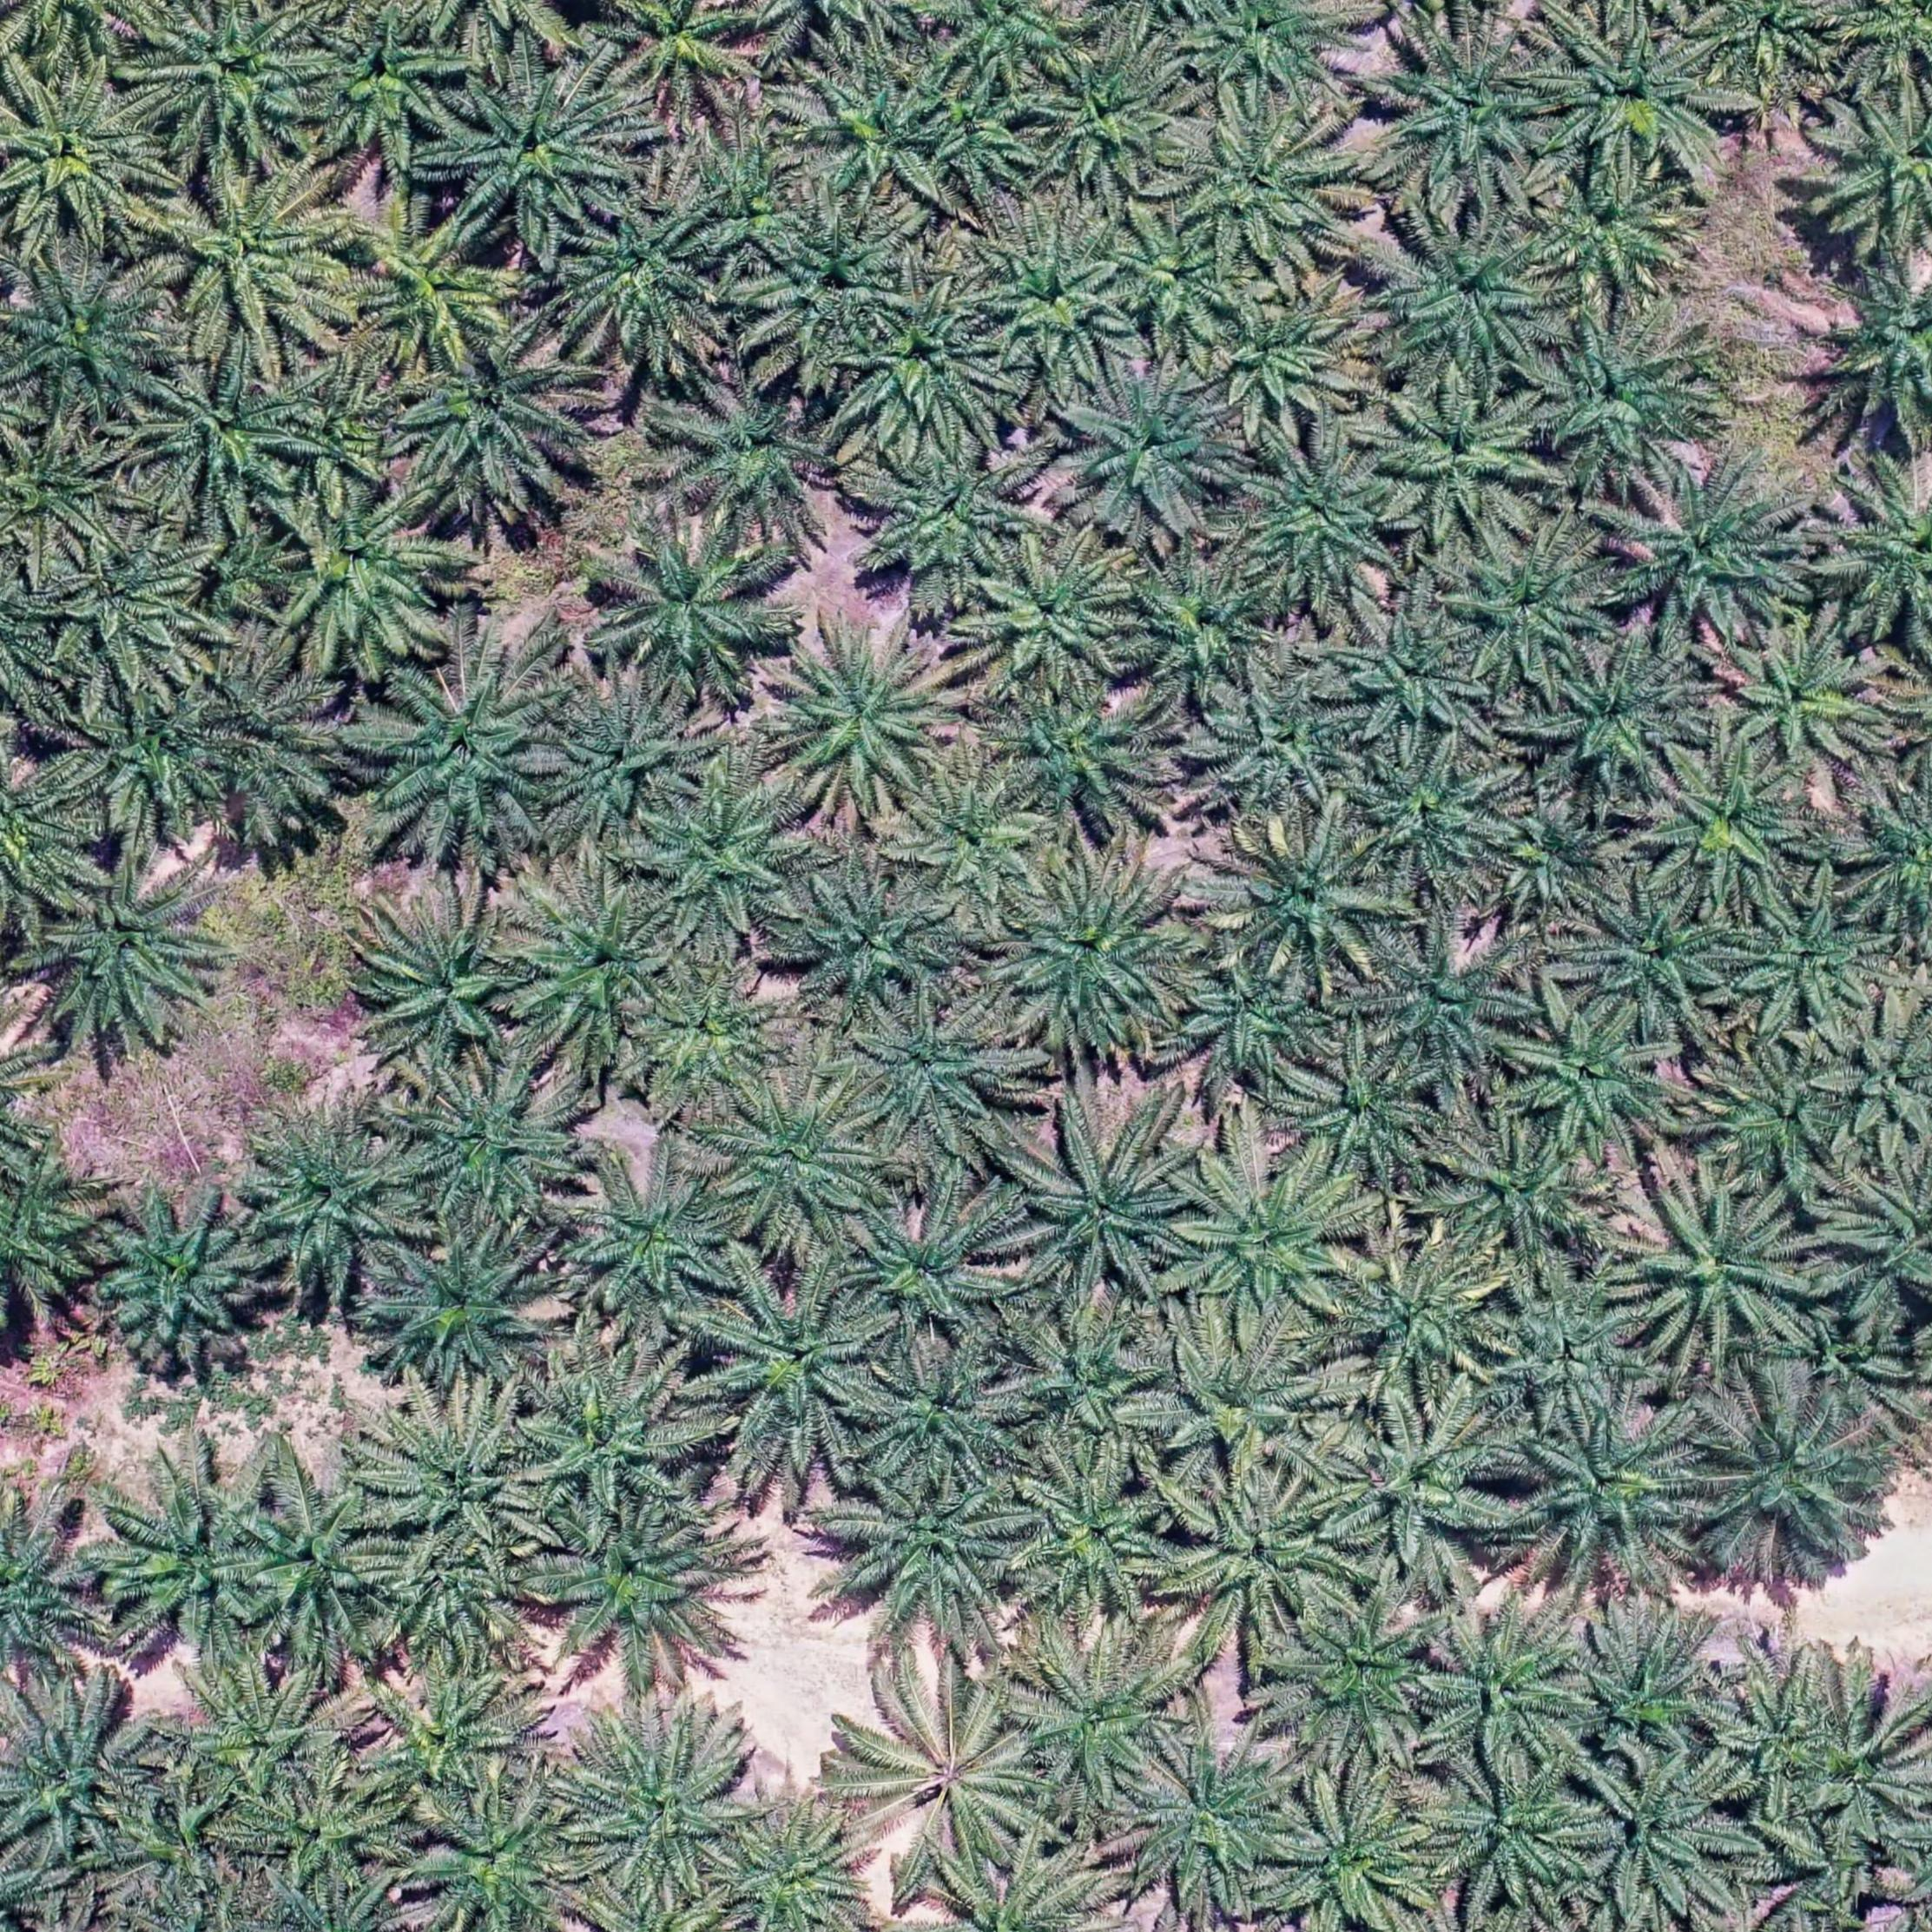palmtree: (356, 653, 566, 860), (840, 1683, 1051, 1881), (991, 856, 1196, 1053), (1686, 1385, 1893, 1578), (1608, 460, 1817, 646), (1621, 1178, 1824, 1368), (147, 161, 350, 350), (395, 322, 598, 511), (260, 476, 458, 669), (1511, 1401, 1713, 1589), (770, 625, 966, 814), (1322, 1399, 1518, 1587), (534, 1504, 738, 1684), (568, 1706, 757, 1897), (30, 858, 219, 1049), (439, 60, 635, 244), (1005, 1109, 1196, 1297), (591, 518, 784, 702), (1168, 1474, 1362, 1656), (1532, 12, 1736, 186), (1373, 211, 1568, 391), (835, 1470, 1031, 1649), (709, 1276, 899, 1460), (1173, 101, 1364, 280), (99, 1479, 285, 1661), (1175, 1157, 1364, 1336), (1060, 359, 1247, 538), (1376, 25, 1564, 202), (1529, 311, 1713, 488), (665, 368, 853, 538), (1120, 1732, 1302, 1905), (1566, 1750, 1748, 1923), (0, 60, 170, 246), (1375, 377, 1557, 548), (161, 1656, 357, 1815), (241, 1118, 425, 1286), (140, 2, 331, 163), (557, 196, 736, 368), (840, 276, 1019, 448), (1714, 623, 1898, 789), (375, 1223, 561, 1387), (405, 1062, 591, 1226), (1150, 1325, 1341, 1484), (92, 1192, 272, 1361), (1014, 1633, 1191, 1803), (136, 354, 313, 524), (1277, 1599, 1456, 1767), (1419, 1606, 1598, 1775), (1642, 748, 1821, 916), (513, 881, 683, 1056), (1005, 1453, 1182, 1621), (1215, 814, 1396, 978), (1233, 437, 1407, 607), (1530, 644, 1711, 807), (524, 1364, 708, 1523), (987, 678, 1173, 835), (1445, 529, 1622, 694), (0, 1691, 163, 1870), (1421, 1752, 1601, 1913), (347, 207, 518, 375), (1509, 998, 1684, 1162), (44, 518, 219, 683), (564, 1162, 743, 1323), (1566, 881, 1741, 1044), (1488, 1272, 1665, 1433), (198, 649, 352, 833), (364, 901, 536, 1065), (7, 253, 179, 418), (718, 1079, 892, 1242), (750, 203, 924, 366), (359, 1660, 541, 1813), (977, 221, 1141, 391), (644, 777, 816, 939), (970, 540, 1146, 697), (793, 57, 966, 216), (541, 686, 715, 846), (787, 870, 970, 1021), (1369, 918, 1539, 1079), (865, 441, 1042, 594), (1005, 1309, 1175, 1468), (370, 1405, 543, 1559), (62, 683, 235, 837), (1194, 674, 1369, 826), (1435, 1116, 1612, 1267), (239, 1491, 400, 1656), (1330, 1240, 1506, 1391), (1269, 1785, 1447, 1932), (1697, 1040, 1865, 1196), (856, 996, 1026, 1148), (849, 1196, 1021, 1346), (1028, 41, 1192, 196), (299, 11, 465, 165), (1350, 745, 1520, 895), (1116, 552, 1284, 702), (412, 1792, 593, 1932), (1727, 890, 1893, 1040), (1560, 1617, 1729, 1766), (1286, 1039, 1451, 1189), (1530, 163, 1698, 310), (1330, 602, 1493, 752), (637, 964, 800, 1115), (862, 1341, 1035, 1481), (895, 766, 1054, 918), (1208, 283, 1368, 435), (364, 1532, 541, 1668), (1175, 954, 1339, 1099), (1815, 251, 1932, 448), (1787, 1686, 1928, 1842), (1821, 1155, 1932, 1348), (1810, 88, 1932, 262), (1822, 456, 1932, 646), (0, 1150, 119, 1325), (0, 1500, 108, 1691), (596, 0, 770, 117), (1182, 0, 1368, 106), (1109, 218, 1253, 354), (725, 1810, 883, 1932), (683, 131, 814, 271), (249, 1776, 403, 1893), (1824, 1001, 1932, 1164), (1493, 796, 1633, 922), (0, 752, 99, 929), (271, 379, 410, 502), (0, 425, 131, 556), (1782, 1307, 1920, 1430), (115, 1787, 253, 1907), (1718, 1668, 1838, 1806), (918, 83, 1047, 211), (1695, 0, 1856, 92), (0, 554, 83, 731), (1849, 771, 1932, 941), (936, 0, 1088, 87)
